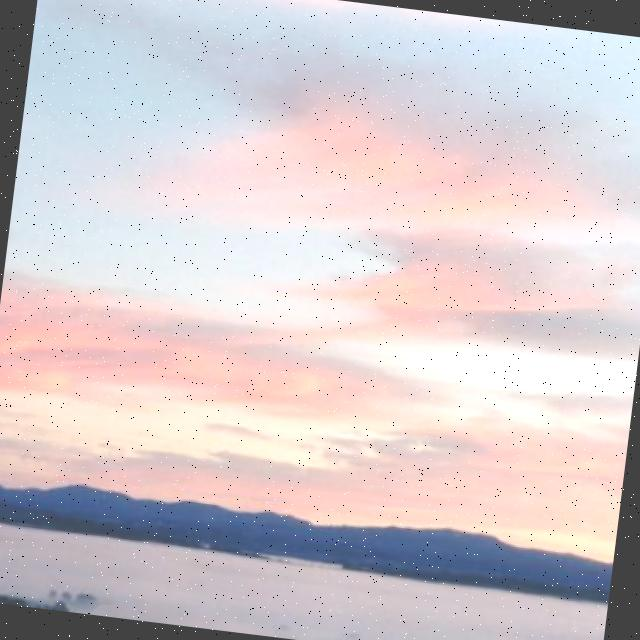Ci: (1, 52, 640, 539)
